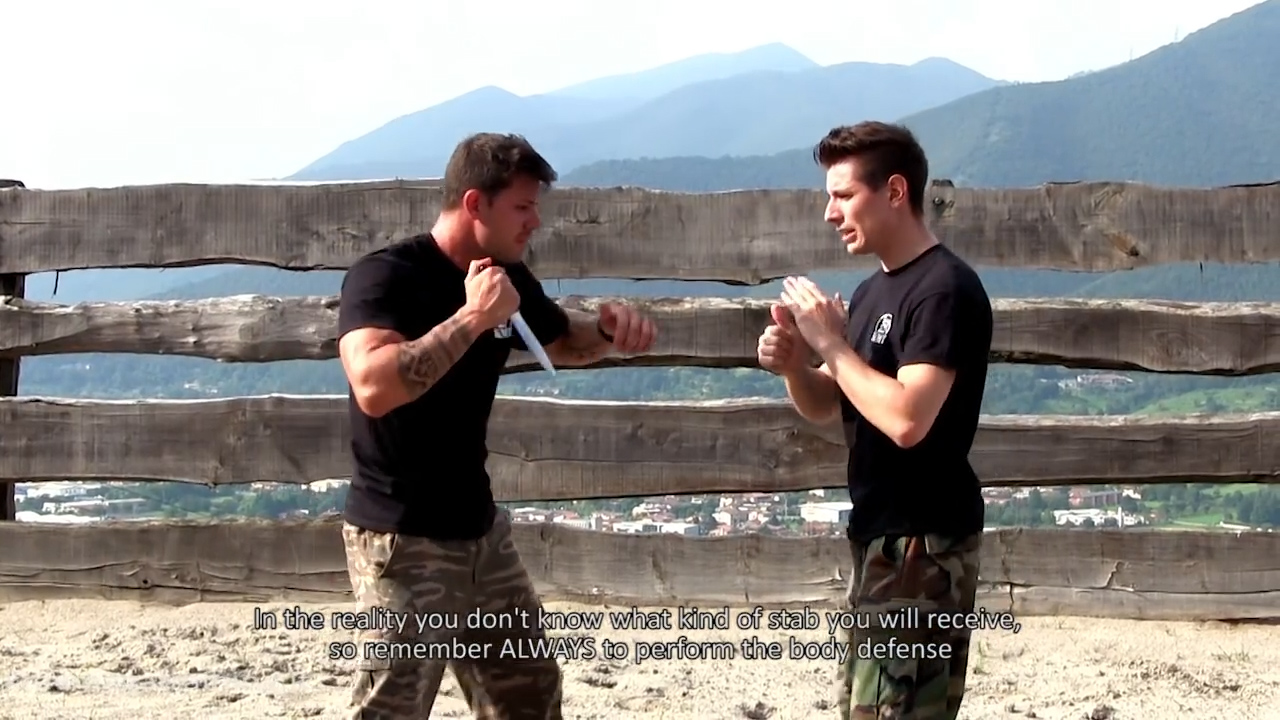knife: (465, 255, 562, 385)
